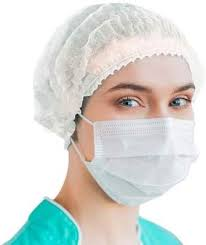with_mask_and_cap: (62, 5, 196, 207)
